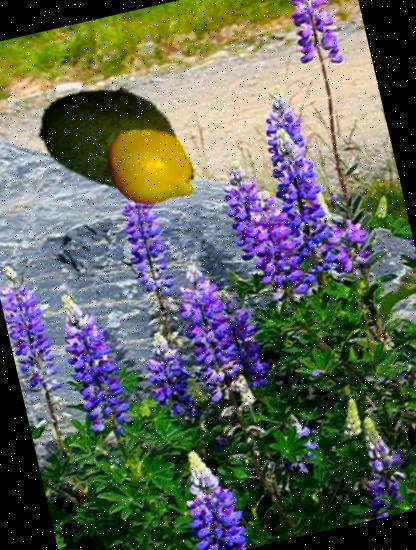Avocado: (24, 48, 196, 220)
Quince: (96, 111, 209, 224)
